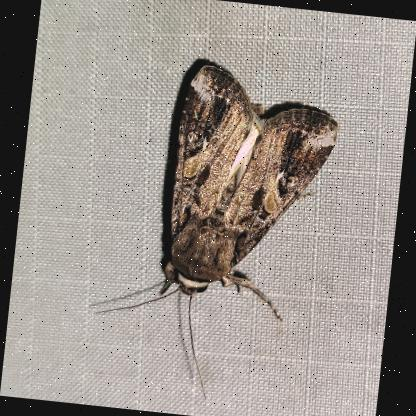Fall Armyworm Moth: (82, 51, 346, 413)
